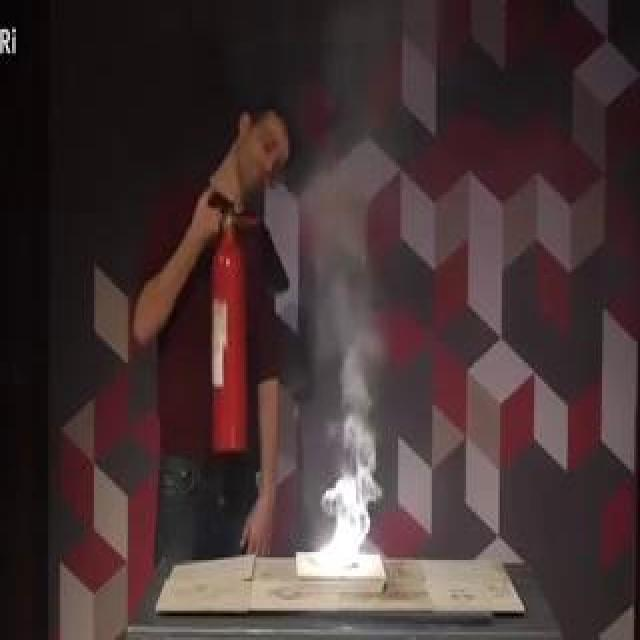Fire: (74, 142, 344, 502)
